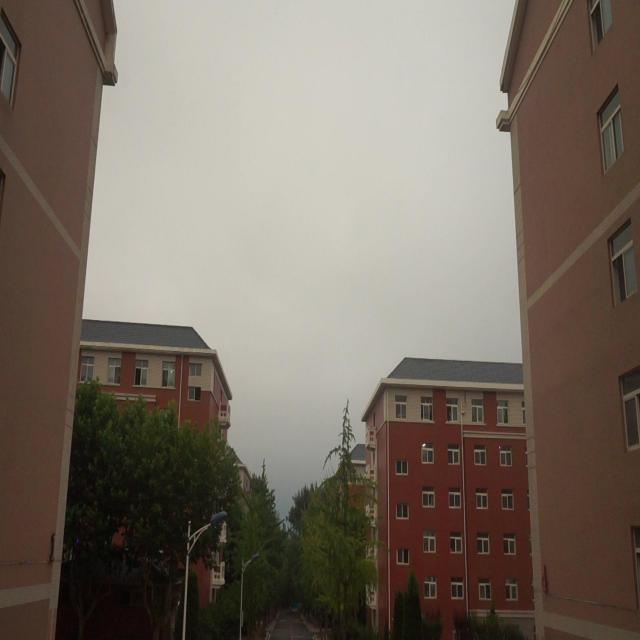UAV: (459, 410, 466, 417)
